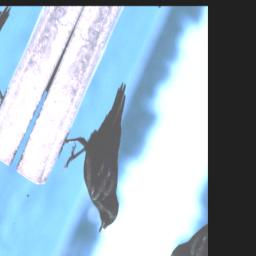Crow: (39, 62, 167, 242)
